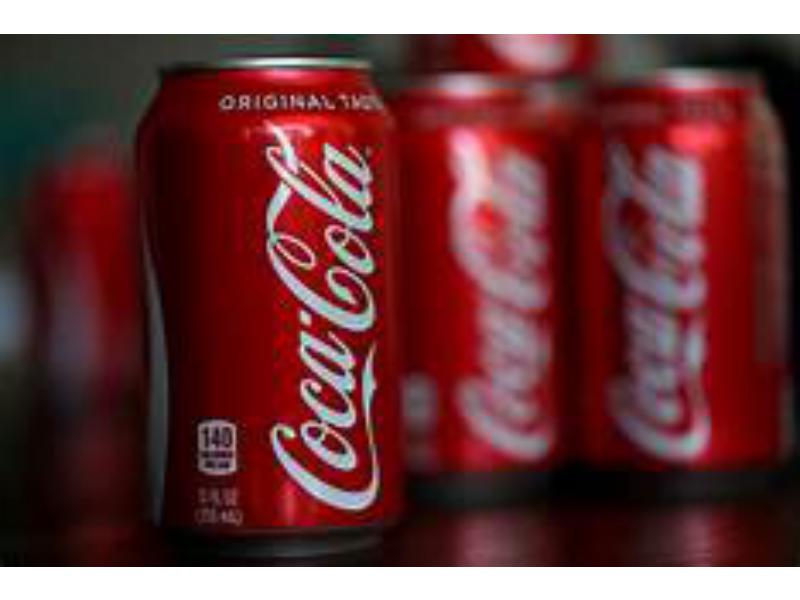can: (129, 44, 406, 546), (592, 61, 788, 476), (406, 65, 587, 471)
